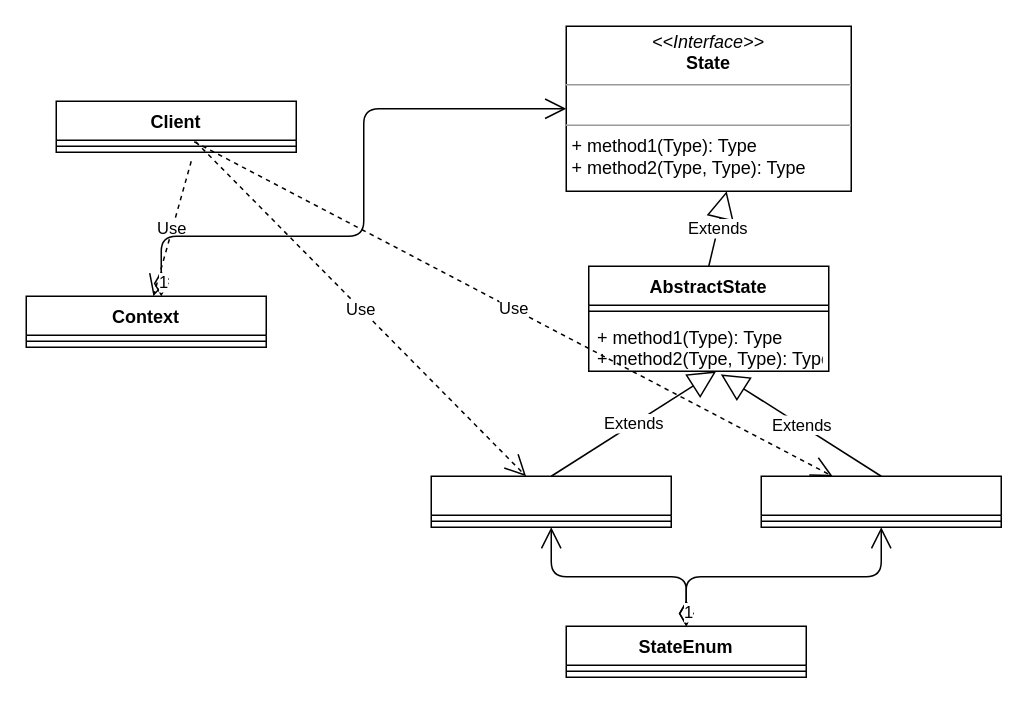
Some shapes in this 1028 by 704 pixel diagram are drawn without their labels. The shapes that lost their labels are listed below. From the top down, each one's centre as x and y in pixels, then its label:
At pixel 550 501: "FeedBackState".
At pixel 880 501: "PublishState".
